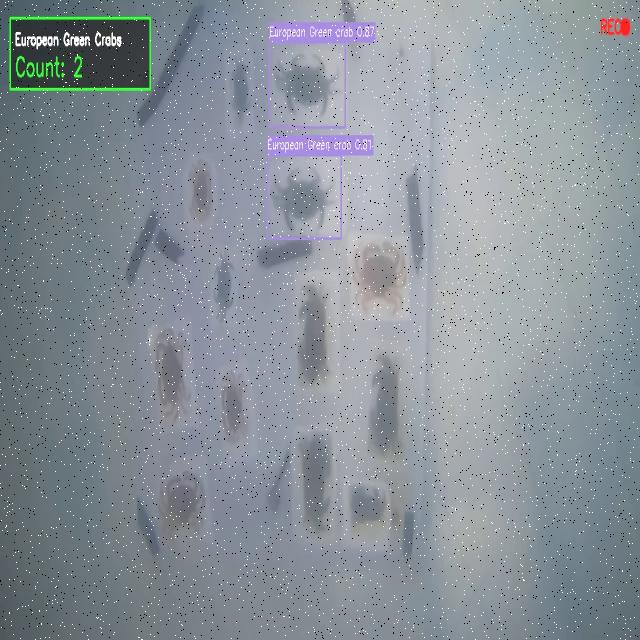European_Green_Crab: (270, 164, 340, 234), (273, 49, 342, 116), (227, 47, 257, 133), (212, 247, 233, 323)
